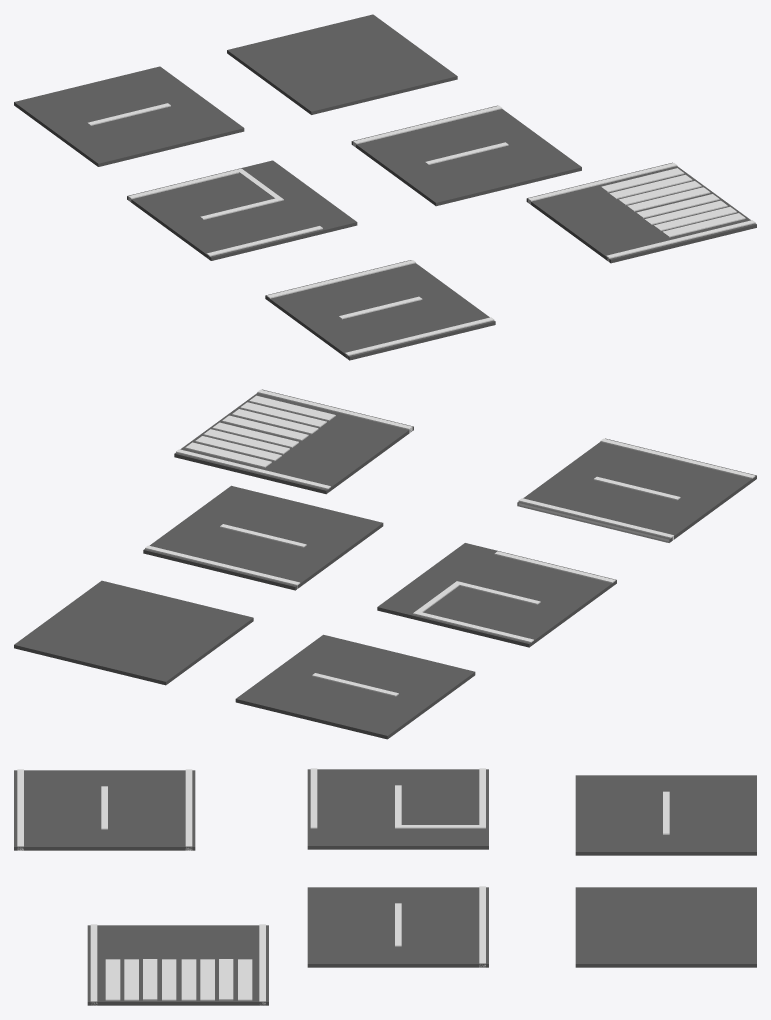
The model's file is road tile.glb.
3 renders of one model, top to bottom at view 1: azimuth 30°, elevation 25°; view 2: azimuth 150°, elevation 25°; view 3: azimuth 270°, elevation 25°, orthographic. The views are drawn at different scales.
Visible parts, largest first — view 1: Cube.004, Cube.005, Cube, Cube.002, Cube.001, Cube.003; view 2: Cube.004, Cube, Cube.005, Cube.001, Cube.002, Cube.003; view 3: Cube.001, Cube.004, Cube.005, Cube, Cube.002, Cube.003.
Boxes of the visible parts, bbox=[...] form: Cube.004: bbox=[526, 162, 756, 263]; Cube.005: bbox=[265, 260, 495, 360]; Cube: bbox=[351, 105, 581, 206]; Cube.002: bbox=[14, 66, 244, 166]; Cube.001: bbox=[127, 160, 357, 260]; Cube.003: bbox=[227, 14, 457, 114]; Cube.004: bbox=[174, 389, 413, 494]; Cube: bbox=[143, 485, 383, 590]; Cube.005: bbox=[517, 438, 756, 542]; Cube.001: bbox=[377, 543, 616, 647]; Cube.002: bbox=[235, 634, 475, 739]; Cube.003: bbox=[14, 580, 253, 685]; Cube.001: bbox=[307, 768, 488, 849]; Cube.004: bbox=[87, 924, 268, 1005]; Cube.005: bbox=[14, 769, 195, 850]; Cube: bbox=[307, 886, 488, 967]; Cube.002: bbox=[575, 775, 756, 855]; Cube.003: bbox=[575, 887, 756, 967].
Size of the model in its own units: 27.32 by 0.2588 by 36.84.
Materials: 1 (1 with a texture image).
